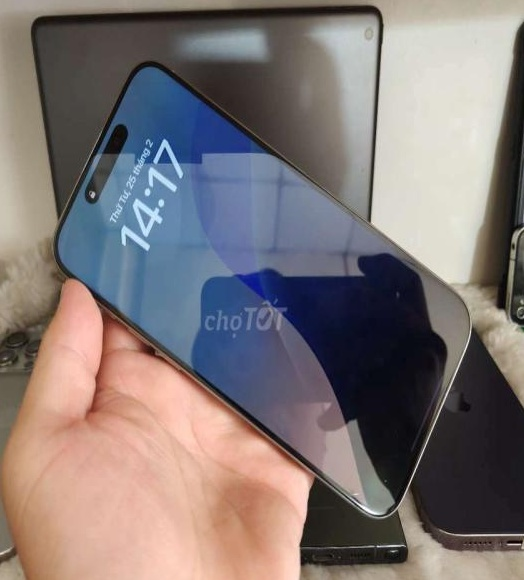physical_damage: (147, 342, 185, 385), (348, 480, 366, 516)
scratch: (393, 283, 404, 309), (383, 474, 388, 488)
